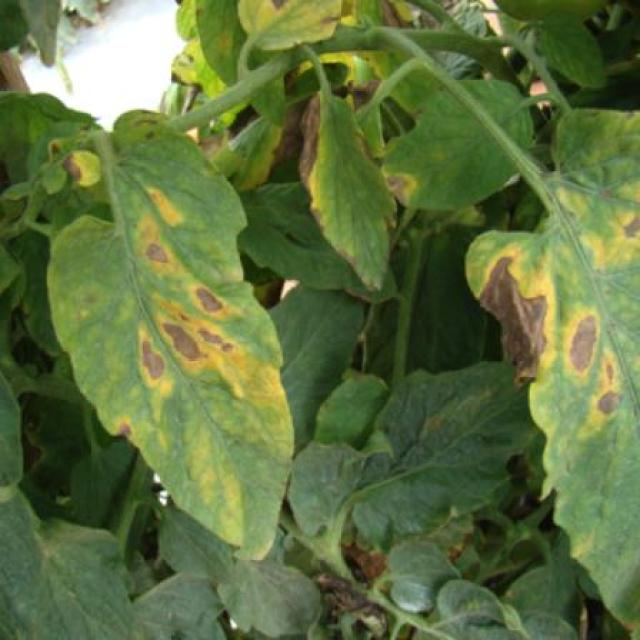Early Blight: (48, 106, 296, 558), (465, 101, 640, 629), (296, 85, 400, 298)
